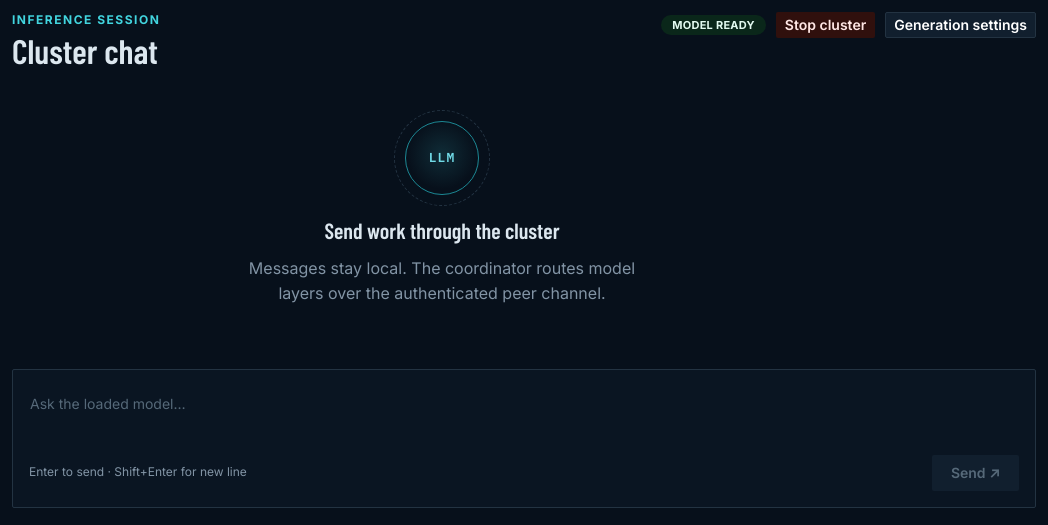
Test: interactive pages › shows generation errors and retries the last user prompt
In the text box named "message": (524, 415) [29,386,1019,443], type "Retry me"
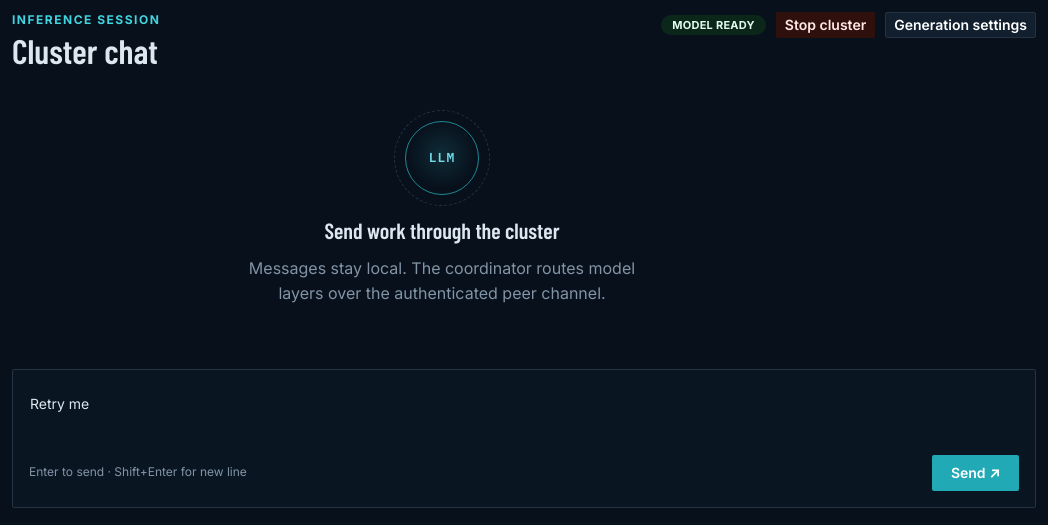
Click the button with aria-label "send message": (975, 473) [932,455,1019,491]
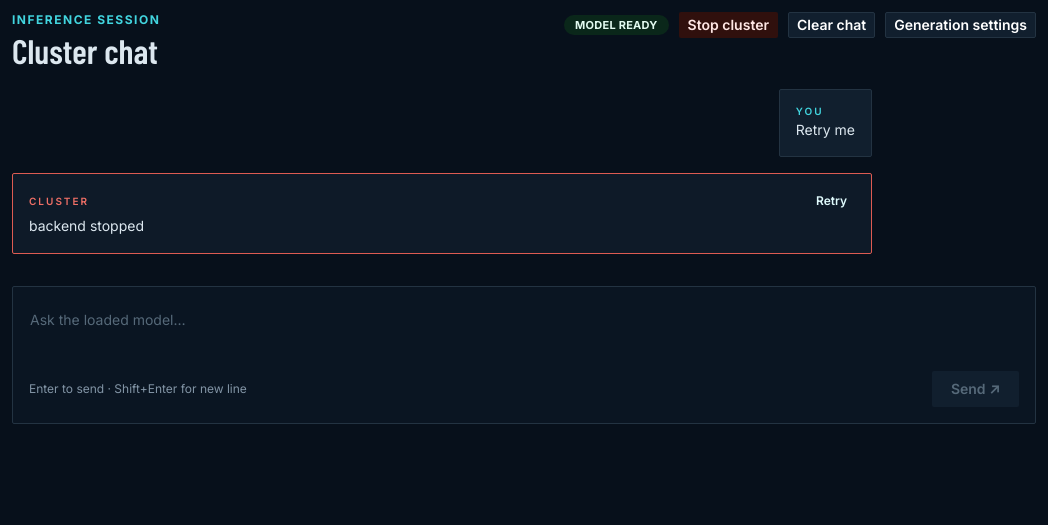
Check: the text "backend stopped" is shown, box [29,217,144,234]
Click the button "Retry": (832, 201) [808,190,855,212]
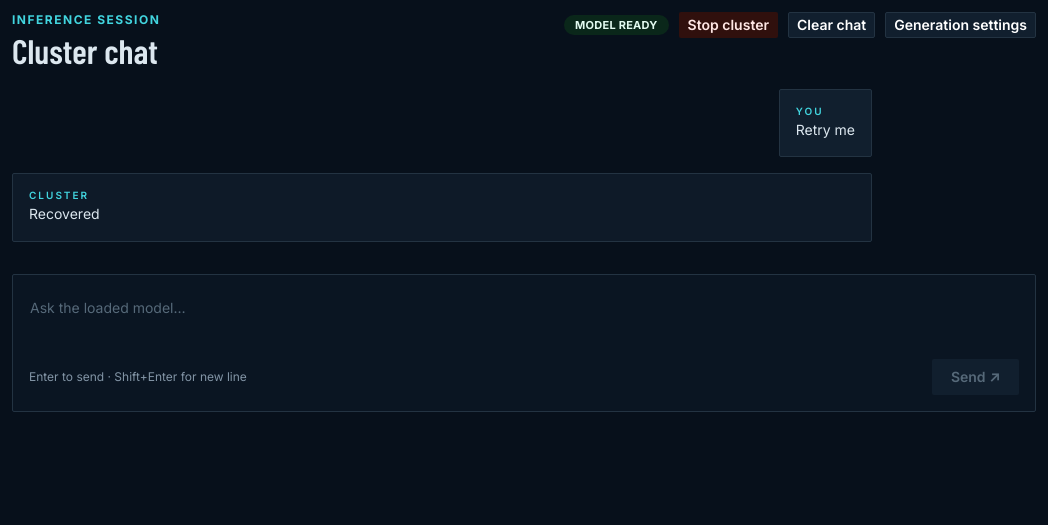
Check: the text "Recovered" is shown, box [29,205,100,222]
